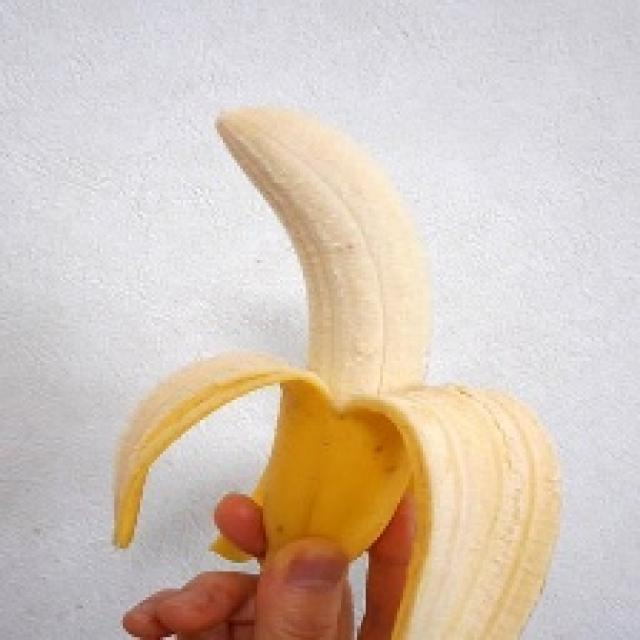Banana: (108, 103, 563, 637)
